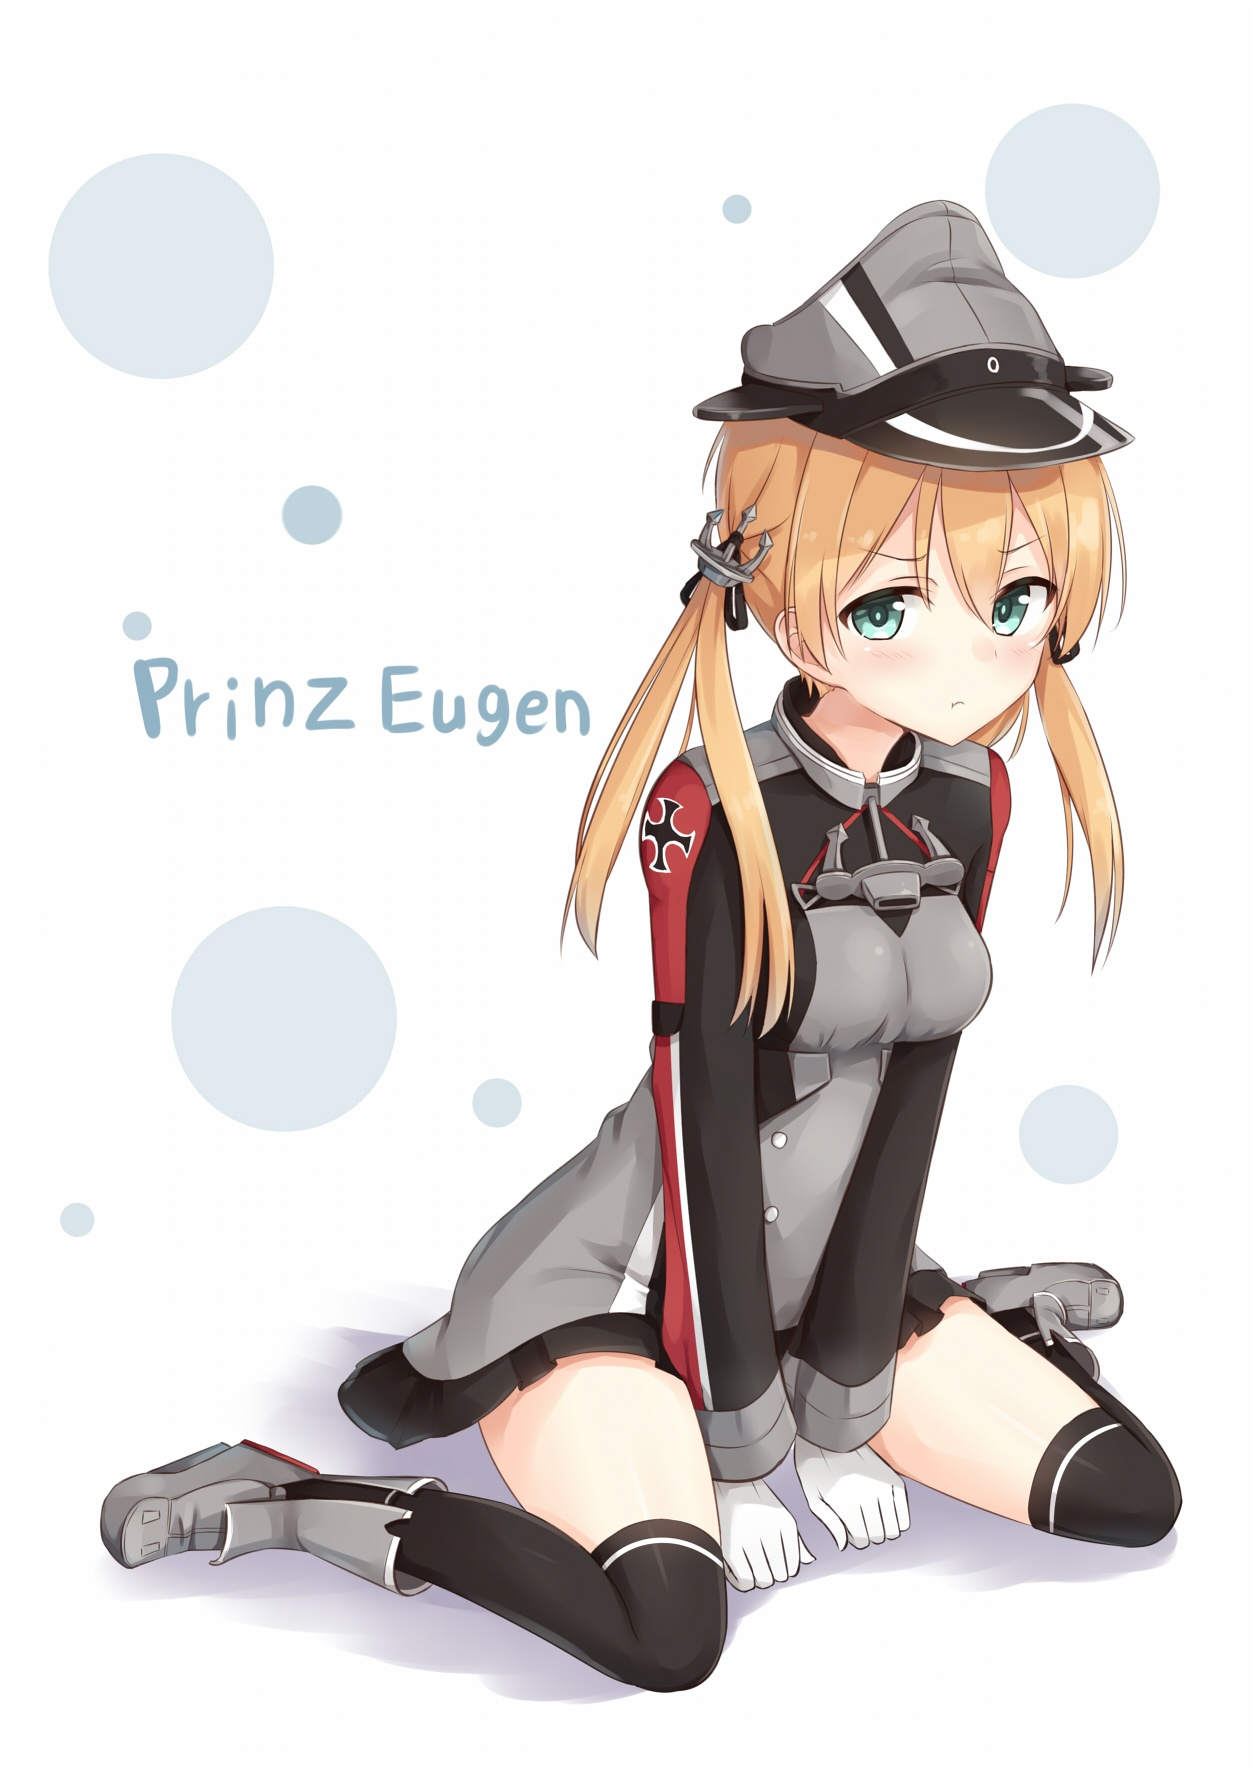纸片人正脸: (699, 371, 1120, 765)
